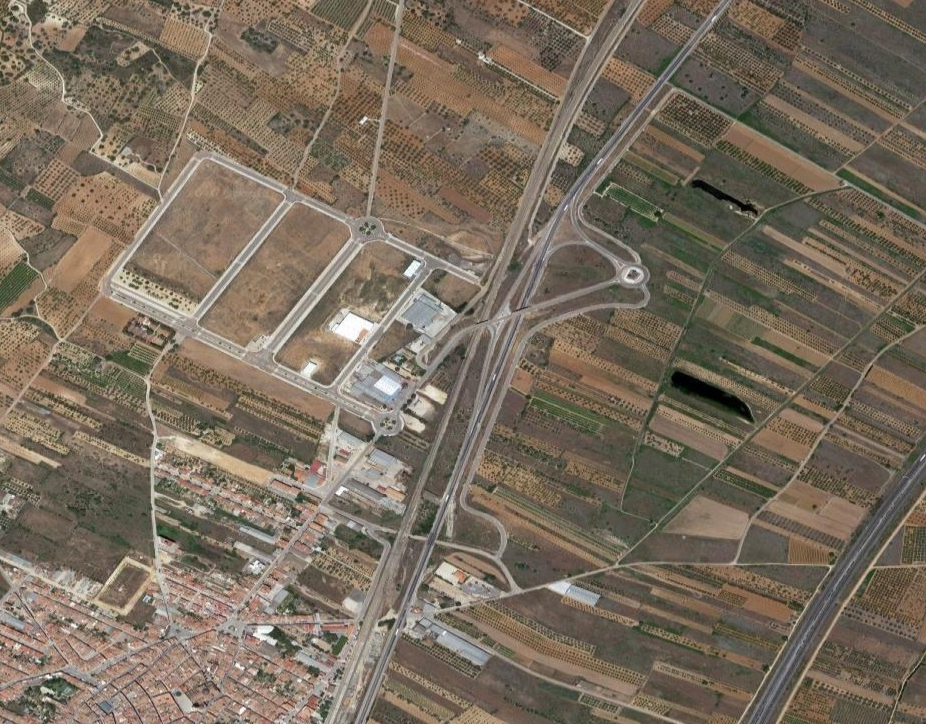industrial: (95, 174, 447, 384)
motorway: (326, 376, 494, 724), (729, 439, 926, 724), (453, 182, 653, 396), (509, 1, 733, 185)
